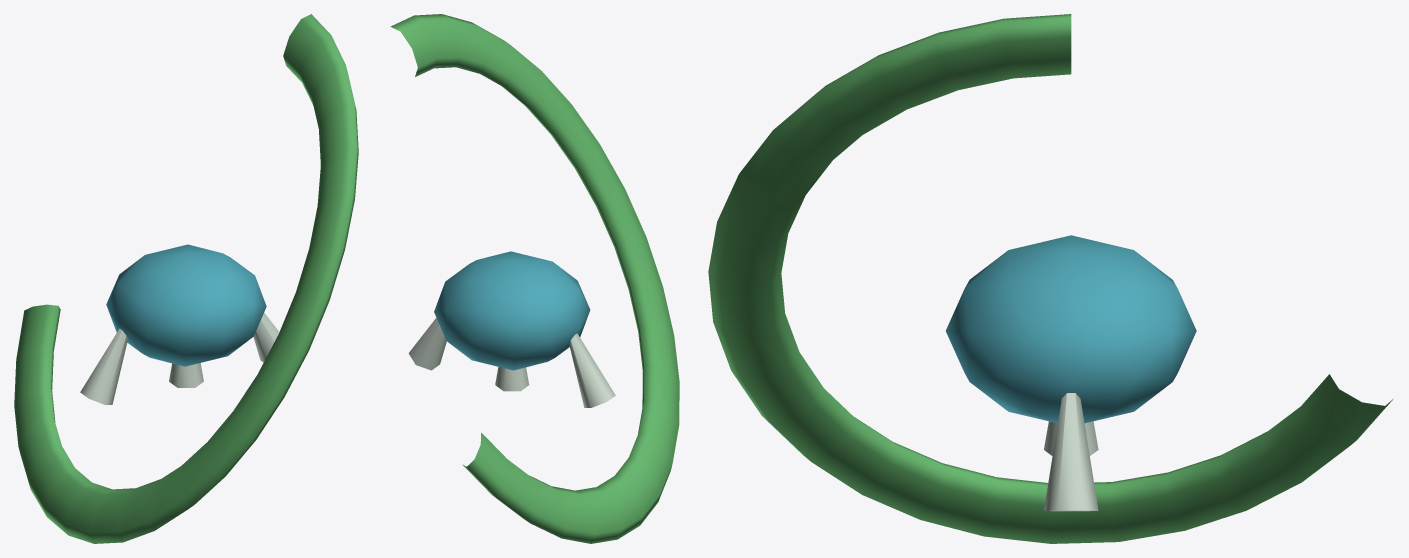
Rendered from scythe.glb.
3 views of the same model, side by side, from view 1: azimuth 30°, elevation 25°; view 2: azimuth 150°, elevation 25°; view 3: azimuth 270°, elevation 25° (orthographic). The views are drawn at different scales.
Visible parts, largest first — view 1: scythe_arc, scythe_impact, scythe_shard_0, scythe_shard_1, scythe_shard_2; view 2: scythe_arc, scythe_impact, scythe_shard_0, scythe_shard_2, scythe_shard_1; view 3: scythe_arc, scythe_impact, scythe_shard_2.
Part boxes in pixels (box(x1,y1,x2,y2)): scythe_arc: box(14, 14, 358, 543); scythe_impact: box(106, 244, 266, 366); scythe_shard_0: box(80, 328, 127, 404); scythe_shard_1: box(169, 363, 203, 387); scythe_shard_2: box(253, 312, 279, 362); scythe_arc: box(390, 14, 679, 543); scythe_impact: box(434, 251, 590, 370); scythe_shard_0: box(569, 333, 615, 407); scythe_shard_2: box(408, 318, 446, 370); scythe_shard_1: box(495, 367, 529, 391); scythe_arc: box(708, 14, 1392, 543); scythe_impact: box(946, 235, 1196, 423); scythe_shard_2: box(1044, 393, 1098, 511).
Size of what is drawn, in the model's own units: 2.03 by 3.45 by 3.01.
